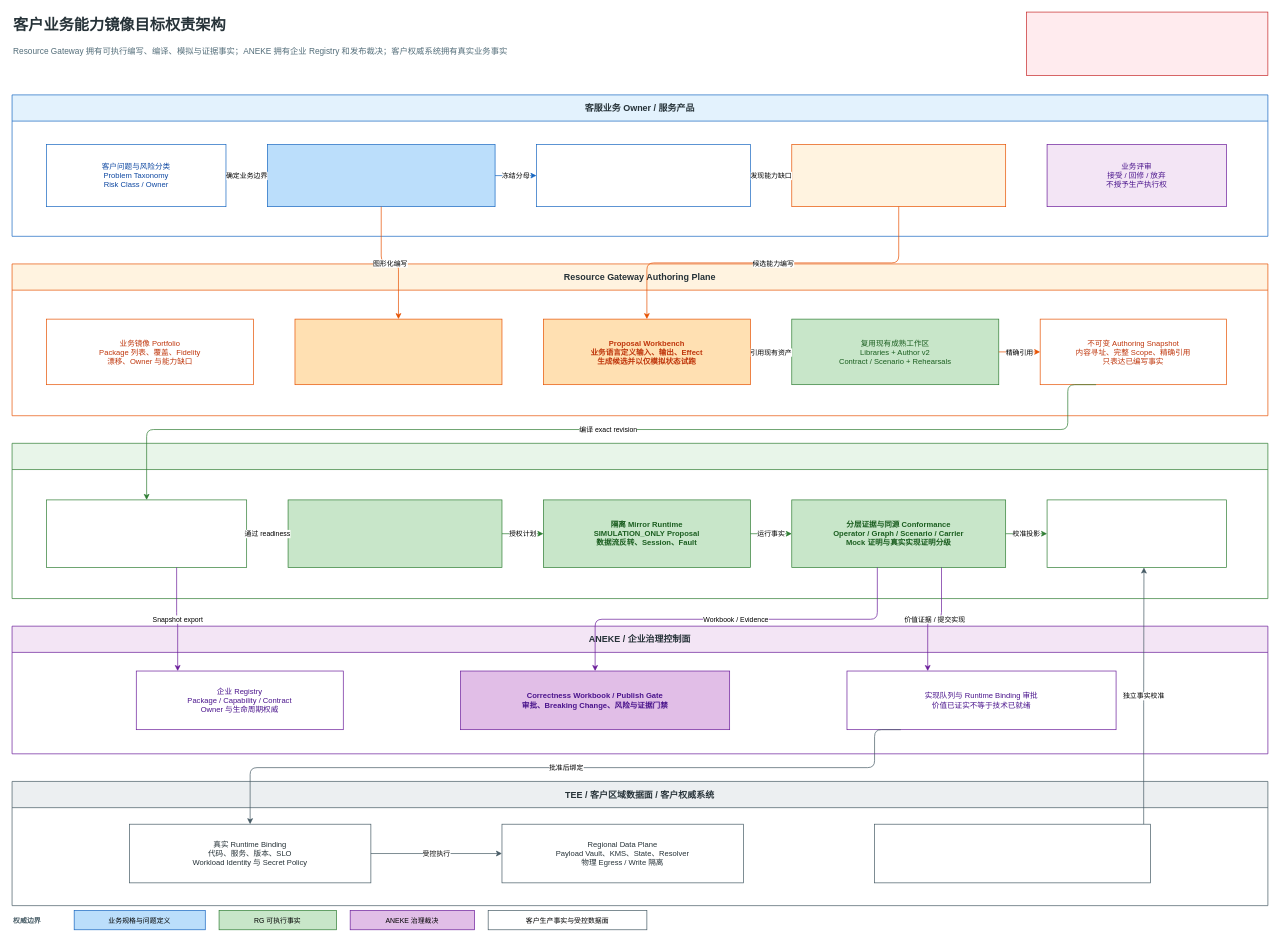
This 1280x942 diagram has some shape labels left out. The box of each missing label's shape, as (x1, y1, x2, y2) in pixels:
CapabilityClosure + MirrorPlan 冻结 Graph、Operator、Function Fixture、状态、时间与身份: (287, 499, 502, 568)
CapabilityProposal 缺失能力的业务规格、Fixture 验收套件、价值假设与限制: (791, 144, 1006, 207)
DomainCapabilityPackageDraft 业务问题、契约、场景分母 解决方案、载体与渠道引用: (267, 144, 495, 207)
Fidelity / Shadow / Outcome 投影 覆盖分母、置信度、Freshness Abstention Debt 与 Drift: (1046, 499, 1226, 568)
Package Workbench 问题 → 契约 → 闭包 → 场景 演练 → 校准的统一任务流: (294, 318, 502, 385)
PackageCompiler 校验业务必填项与引用闭包 生成 Readiness / Impact: (46, 499, 247, 568)
Resource Gateway Compilation / Simulation / Evidence Plane: (11, 443, 1268, 599)
Scenario / Fidelity 分母 正常、异常、边界、状态、故障 未知与未覆盖显式保留: (536, 144, 750, 207)
权责不变量 模拟成功 ≠ 实现成功 实现成功 ≠ 客户问题解决 客户结果只能由独立 Outcome 事实证明: (1026, 11, 1268, 76)
独立 Outcome / Policy Authority Watermark、Backfill、撤销、延迟结果 证明客户问题是否真正解决: (874, 824, 1151, 883)
